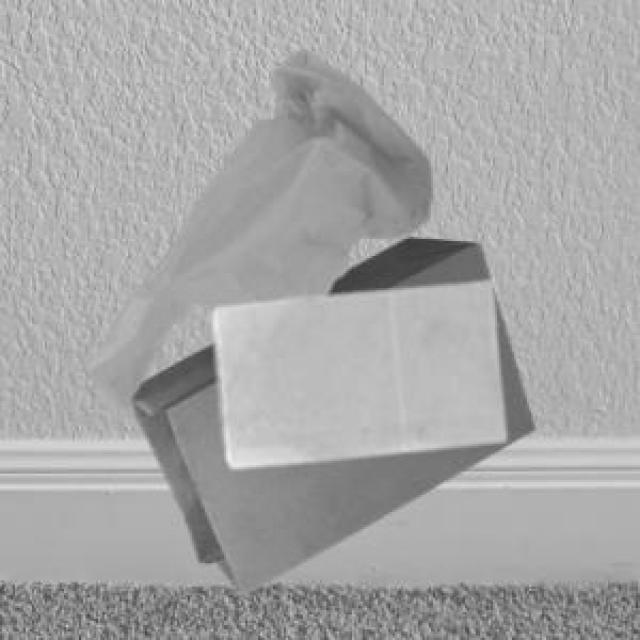paper: (126, 235, 531, 589), (209, 277, 501, 463)
